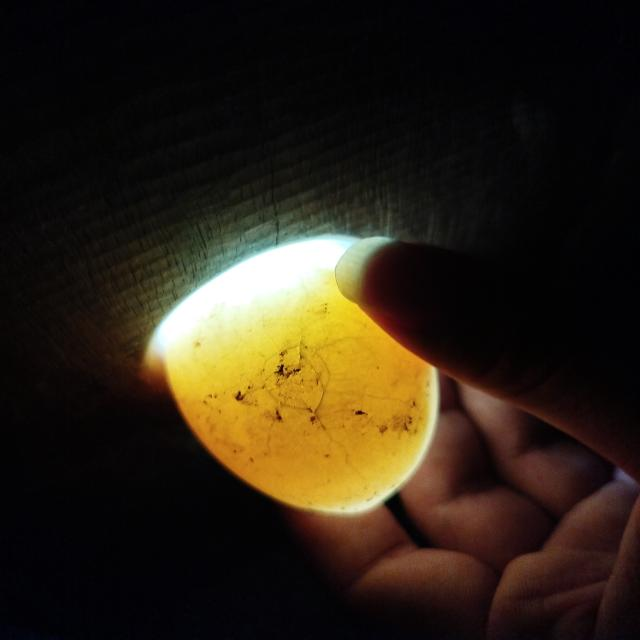Rachadura: (250, 335, 389, 414)
